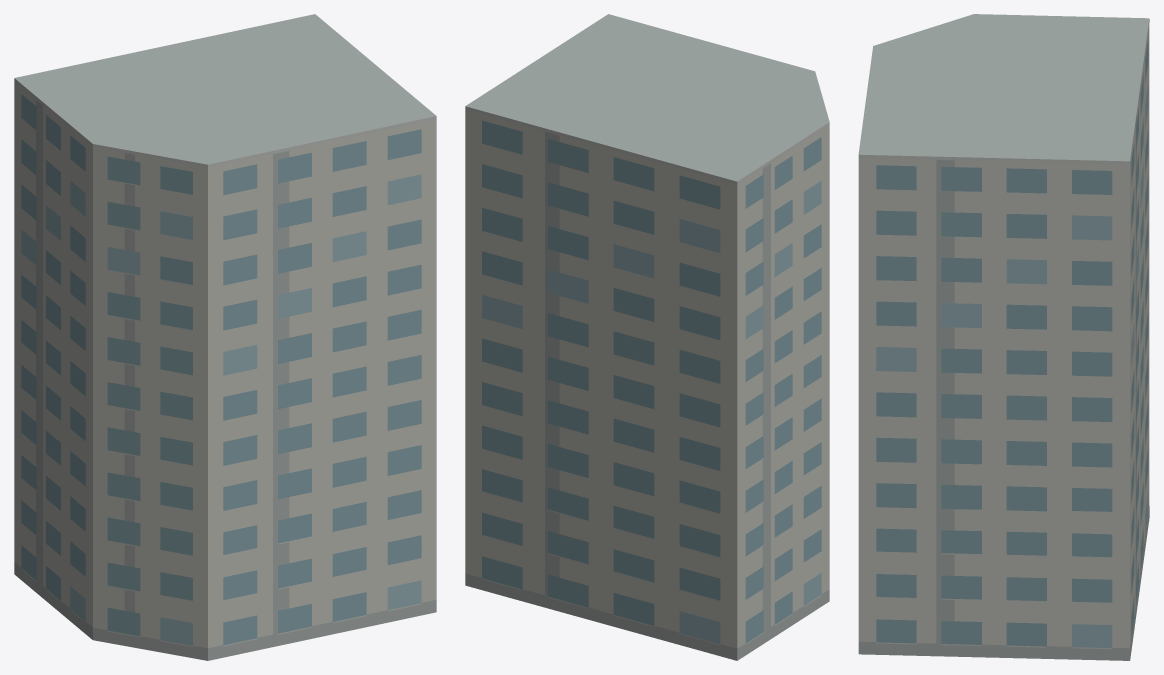
File: residential-6c78d069-842f-4dcb-8c21-6b29f718064a.glb
3 renders of one model, left to right at view 1: azimuth 30°, elevation 25°; view 2: azimuth 150°, elevation 25°; view 3: azimuth 270°, elevation 25°, orthographic. The views are drawn at different scales.
Visible parts, largest first — view 1: residential-6c78d069-842f-4dcb-8c21-6b29f718064a.tmp; view 2: residential-6c78d069-842f-4dcb-8c21-6b29f718064a.tmp; view 3: residential-6c78d069-842f-4dcb-8c21-6b29f718064a.tmp.
Part boxes in pixels (x1,y1,x2,y2): residential-6c78d069-842f-4dcb-8c21-6b29f718064a.tmp: (14, 14, 436, 660); residential-6c78d069-842f-4dcb-8c21-6b29f718064a.tmp: (465, 14, 829, 660); residential-6c78d069-842f-4dcb-8c21-6b29f718064a.tmp: (858, 14, 1149, 660).
Size of the model in its own units: 22.78 by 36 by 19.01.
